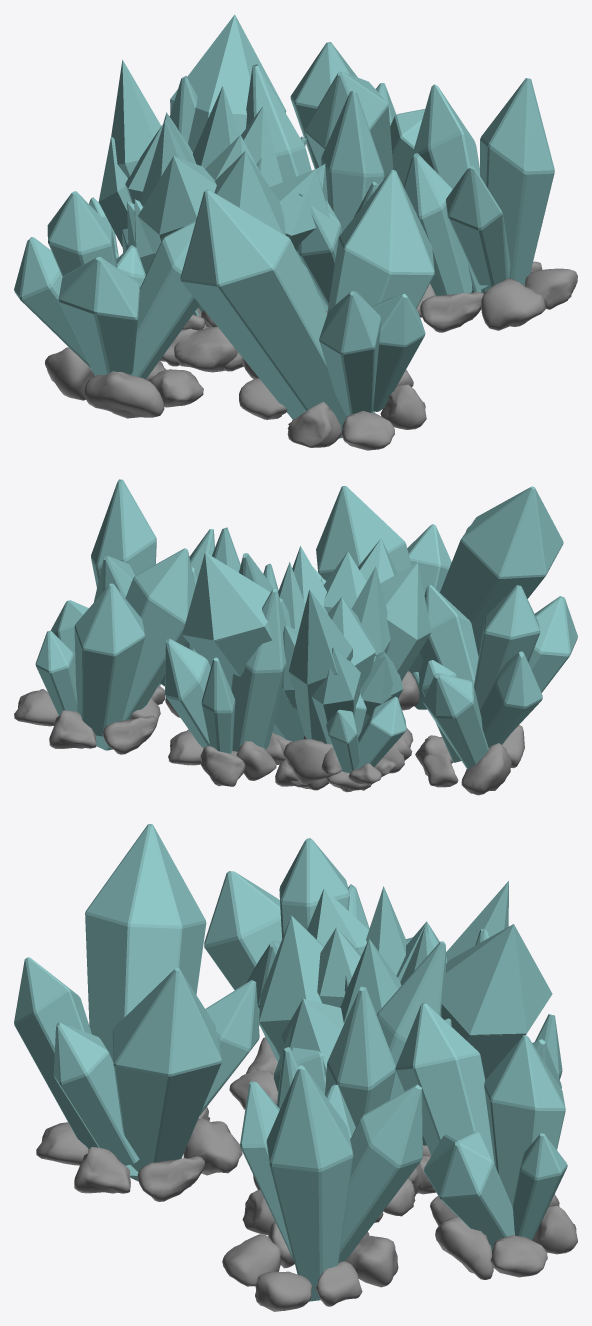
Rendered from crystal.fbx.
The picture shows the model from 3 angles, top to bottom: view 1: azimuth 30°, elevation 25°; view 2: azimuth 150°, elevation 25°; view 3: azimuth 270°, elevation 25°; orthographic projection. The views are drawn at different scales.
Parts seen in each view (by area): view 1: crystal_2_bevel.001, crystal_3_bevel.001, crystal_4_bevel.001, crystal_5_bevel.001, crystal_2, crystal_1_bevel.001, rocks_2.001, rocks_4.001, rocks_3.001, crystal_5, crystal_1, crystal_2_bevel (+9 smaller); view 2: crystal_4_bevel.001, crystal_1_bevel.001, crystal_2_bevel.001, crystal_6_bevel.001, crystal_2, crystal_3_bevel.001, crystal_1, crystal_5, crystal_2_bevel, rocks_1.001, crystal_8_bevel.001, rocks_4.001 (+15 smaller); view 3: crystal_2_bevel.001, crystal_1_bevel.001, crystal_3_bevel.001, crystal_2, crystal_5_bevel.001, crystal_4_bevel.001, crystal_2_bevel, rocks_2.001, rocks_3.001, rocks_1.001, crystal_4, crystal_1 (+11 smaller).
Boxes of the visible parts, x1,y1,x2,y2 form: crystal_2_bevel.001: [180, 170, 434, 438]; crystal_3_bevel.001: [403, 78, 554, 295]; crystal_4_bevel.001: [14, 191, 199, 379]; crystal_5_bevel.001: [246, 64, 384, 311]; crystal_2: [98, 14, 327, 316]; crystal_1_bevel.001: [290, 42, 425, 185]; rocks_2.001: [239, 370, 426, 450]; rocks_4.001: [45, 347, 203, 418]; rocks_3.001: [416, 261, 577, 332]; crystal_5: [111, 59, 239, 177]; crystal_1: [125, 124, 216, 248]; crystal_2_bevel: [100, 21, 325, 315]; crystal_4_bevel.001: [420, 585, 577, 769]; crystal_1_bevel.001: [35, 548, 195, 750]; crystal_2_bevel.001: [316, 486, 563, 709]; crystal_6_bevel.001: [165, 589, 286, 753]; crystal_2: [182, 538, 403, 744]; crystal_3_bevel.001: [91, 479, 214, 686]; crystal_1: [328, 562, 431, 688]; crystal_5: [278, 562, 352, 740]; crystal_2_bevel: [184, 543, 401, 739]; rocks_1.001: [14, 689, 160, 754]; crystal_8_bevel.001: [326, 693, 406, 773]; rocks_4.001: [415, 725, 524, 795]; crystal_2_bevel.001: [14, 824, 259, 1181]; crystal_1_bevel.001: [395, 1002, 567, 1249]; crystal_3_bevel.001: [240, 1065, 422, 1301]; crystal_2: [259, 915, 552, 1145]; crystal_5_bevel.001: [274, 941, 445, 1126]; crystal_4_bevel.001: [204, 838, 412, 1062]; crystal_2_bevel: [261, 920, 551, 1145]; rocks_2.001: [36, 1106, 242, 1201]; rocks_3.001: [222, 1221, 398, 1311]; rocks_1.001: [430, 1194, 577, 1279]; crystal_4: [281, 927, 361, 1076]; crystal_1: [307, 888, 446, 978].
Bounding box in the file's own units: 1667 × 827 × 1438.
